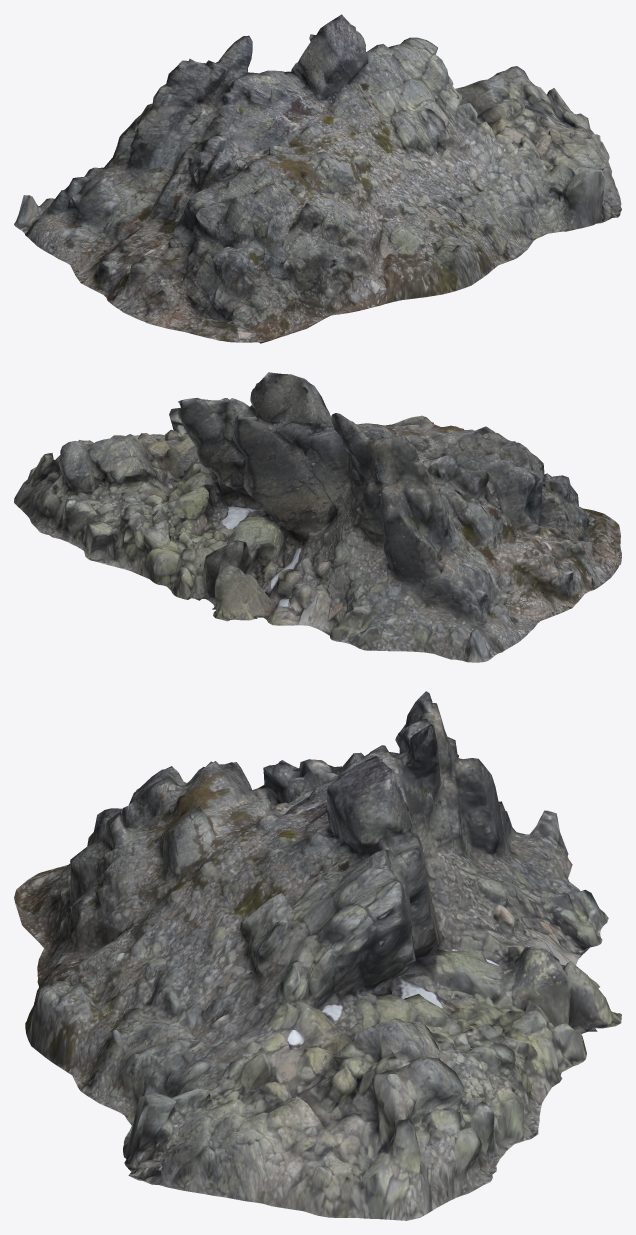
File: mountain_rocks.glb
3 views of the same model, one above another, from view 1: azimuth 30°, elevation 25°; view 2: azimuth 150°, elevation 25°; view 3: azimuth 270°, elevation 25° (orthographic). The views are drawn at different scales.
Parts seen in each view (by area): view 1: Low Poly Mountain Rocks; view 2: Low Poly Mountain Rocks; view 3: Low Poly Mountain Rocks.
Part boxes in pixels (box(x1,y1,x2,y2)): Low Poly Mountain Rocks: box(14, 14, 621, 343); Low Poly Mountain Rocks: box(14, 372, 621, 662); Low Poly Mountain Rocks: box(14, 691, 621, 1220).
Bounding box in the file's own units: 9.46 × 3.16 × 6.33.
Materials: 1 (1 with a texture image).
